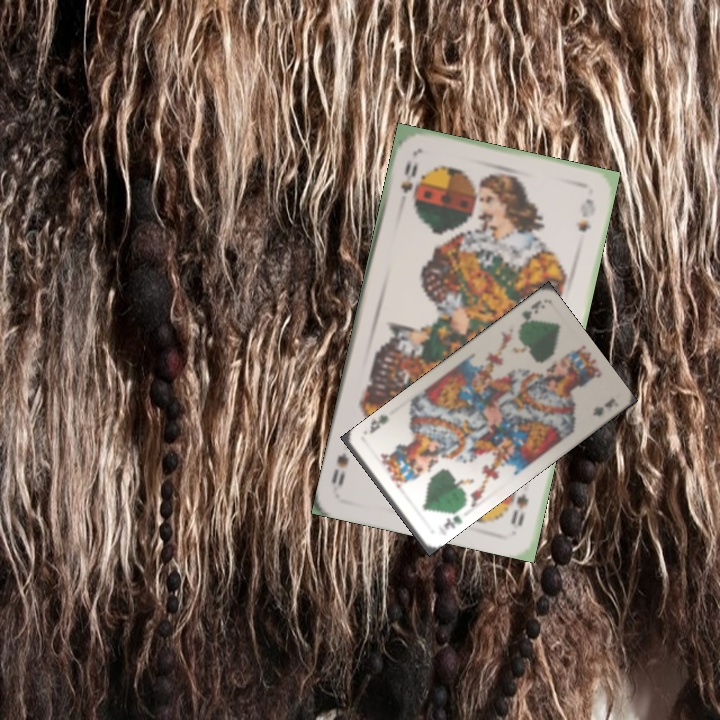GK: (514, 296, 543, 332), (439, 505, 465, 532)
SO: (396, 157, 421, 204), (506, 489, 531, 529)
